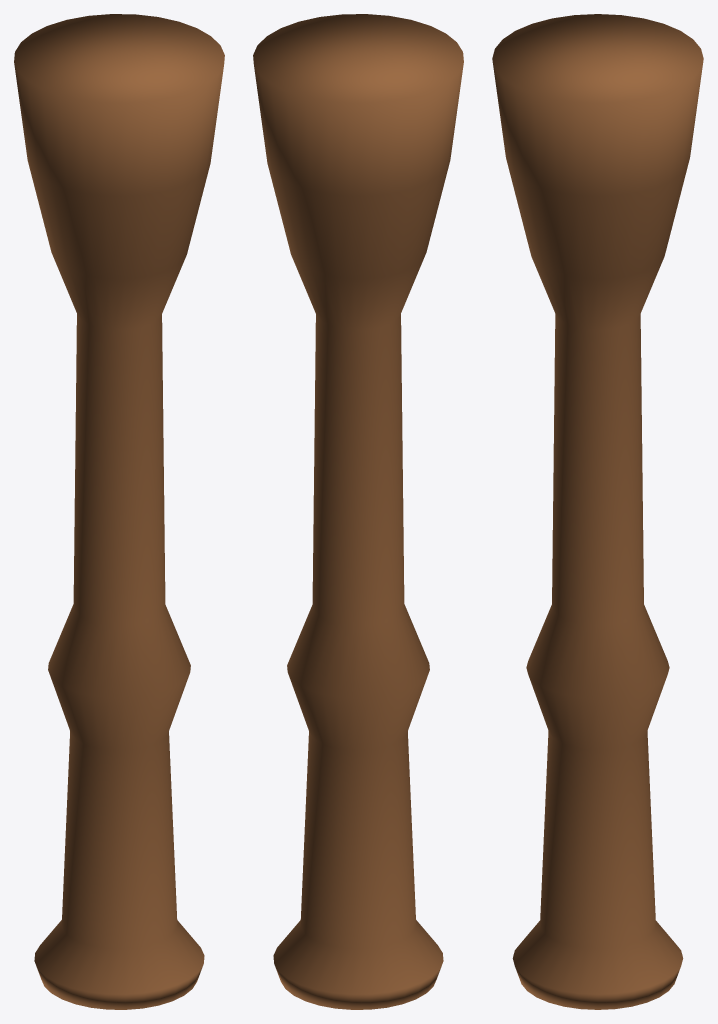
Rendered from DiceDashTableLeg.obj.
3 renders of one model, left to right at view 1: azimuth 30°, elevation 25°; view 2: azimuth 150°, elevation 25°; view 3: azimuth 270°, elevation 25°, orthographic.
Visible parts, largest first — view 1: Leg; view 2: Leg; view 3: Leg.
Boxes of the visible parts, <box> form: Leg: <box>14,14,224,1009</box>; Leg: <box>253,14,463,1009</box>; Leg: <box>492,14,703,1009</box>.
Size of the model in its own units: 6.2 by 29.7 by 6.2.
